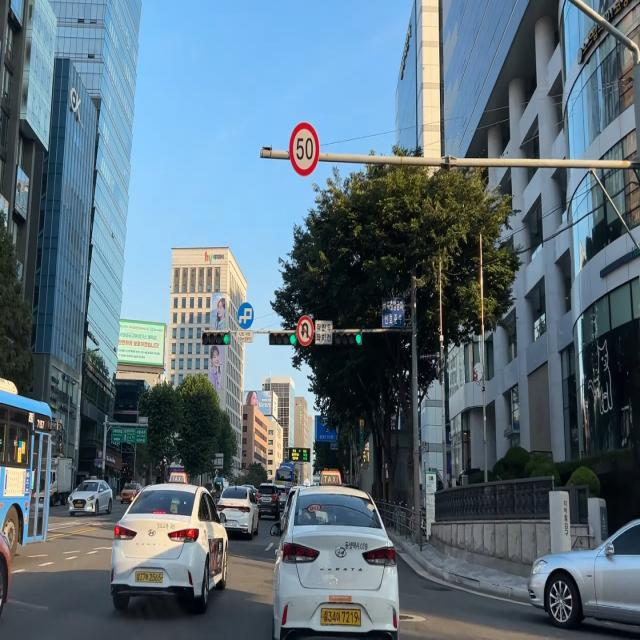Green Light: (222, 332, 230, 345), (355, 333, 362, 344)
